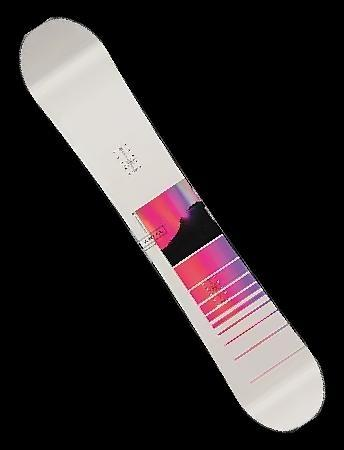Snowboard: (6, 8, 340, 445)
